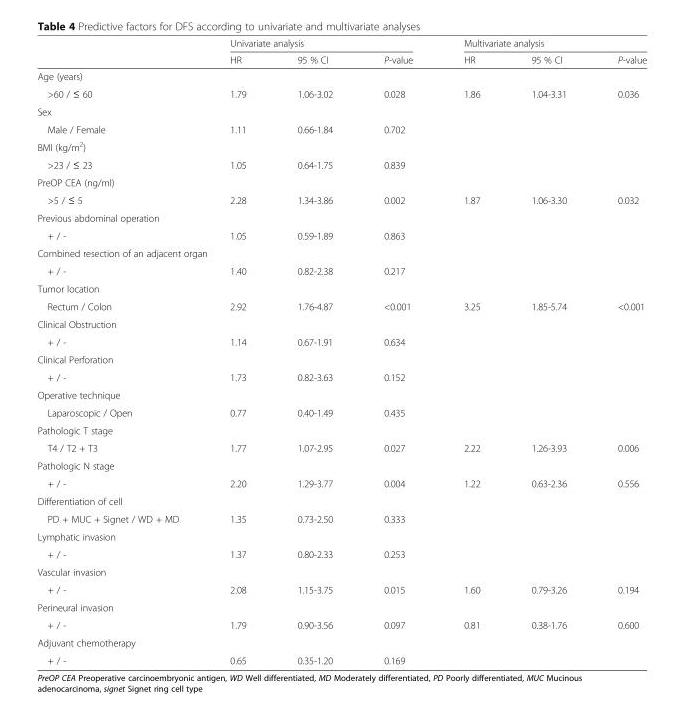table: (36, 37, 646, 665)
table column: (36, 37, 203, 665), (271, 37, 357, 665), (505, 37, 591, 665), (357, 37, 437, 665), (203, 37, 271, 665), (437, 37, 505, 665), (591, 37, 646, 665)
table column header: (36, 37, 646, 67)
table projected row header: (36, 102, 646, 120), (36, 137, 646, 155), (36, 208, 646, 226), (36, 279, 646, 297), (36, 314, 646, 332), (36, 350, 646, 368), (36, 385, 646, 403), (36, 456, 646, 474), (36, 527, 646, 545), (36, 562, 646, 580), (36, 633, 646, 651), (36, 67, 646, 84), (36, 173, 646, 190), (36, 244, 646, 261), (36, 421, 646, 438), (36, 492, 646, 509), (36, 598, 646, 615)
table row: (36, 84, 646, 102), (36, 102, 646, 120), (36, 137, 646, 155), (36, 155, 646, 173), (36, 190, 646, 208), (36, 208, 646, 226), (36, 226, 646, 244), (36, 261, 646, 279), (36, 279, 646, 297), (36, 314, 646, 332), (36, 332, 646, 350), (36, 350, 646, 368), (36, 385, 646, 403), (36, 403, 646, 421), (36, 438, 646, 456), (36, 456, 646, 474), (36, 474, 646, 492), (36, 509, 646, 527), (36, 527, 646, 545), (36, 562, 646, 580), (36, 580, 646, 598), (36, 615, 646, 633), (36, 633, 646, 651), (36, 67, 646, 84), (36, 120, 646, 137), (36, 173, 646, 190), (36, 244, 646, 261), (36, 297, 646, 314), (36, 368, 646, 385), (36, 421, 646, 438), (36, 492, 646, 509), (36, 545, 646, 562), (36, 598, 646, 615), (36, 51, 646, 67), (36, 37, 646, 51), (36, 651, 646, 665)
table spanning cell: (203, 37, 437, 51), (437, 37, 646, 51)
